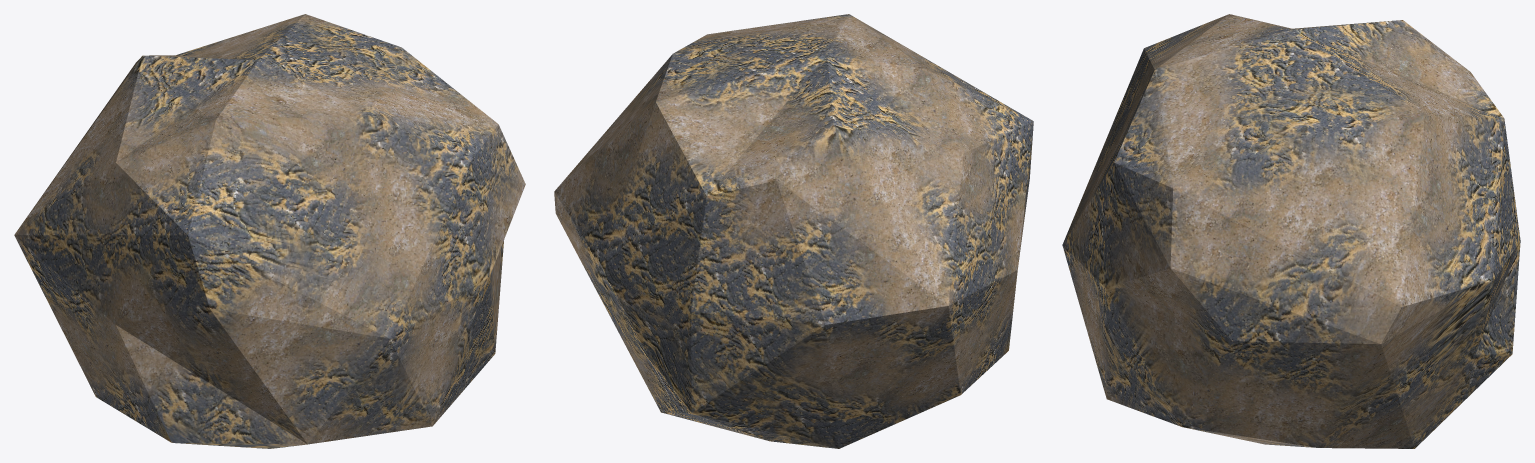
File: asteroid.obj
3 renders of one model, left to right at view 1: azimuth 30°, elevation 25°; view 2: azimuth 150°, elevation 25°; view 3: azimuth 270°, elevation 25°, orthographic. The views are drawn at different scales.
Visible parts, largest first — view 1: Cube; view 2: Cube; view 3: Cube.
Boxes of the visible parts, bbox=[...] form: Cube: bbox=[14, 14, 525, 448]; Cube: bbox=[554, 14, 1033, 448]; Cube: bbox=[1062, 14, 1520, 448].
Bounding box in the file's own units: 2.5 × 2.16 × 2.29.
